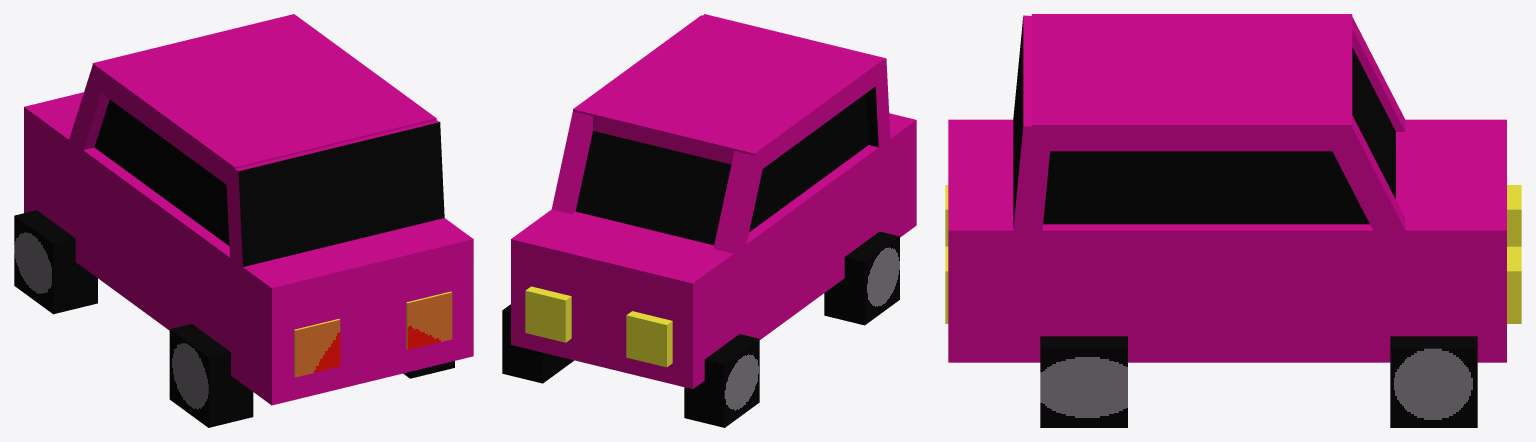
File: carrolaranja.fbx
3 views of the same model, side by side, from view 1: azimuth 30°, elevation 25°; view 2: azimuth 150°, elevation 25°; view 3: azimuth 270°, elevation 25° (orthographic). The views are drawn at different scales.
Parts seen in each view (by area): view 1: cube_1, cube_9_1, cube_10_1, cube_11_1, cube_2_1, cube_1_2, cube_6_3, cube_5_3, cube_8_1, cube_13_1; view 2: cube_1, cube_9_1, cube_15_1, cube_11_1, cube_1_2, cube_2_1, cube_8_1, cube_7_1, cube_5_1, cube_6_1, cube_10_1, cube_4_1; view 3: cube_1, cube_9_1, cube_12_1, cube_3_1, cube_4_1, cube_14_1, cube_10_1, cube_7_1, cube_15_1, cube_8_1, cube_6_1, cube_5_1.
Part boxes in pixels (box(x1,y1,x2,y2)): cube_1: box(24, 92, 473, 405); cube_9_1: box(92, 14, 436, 189); cube_10_1: box(225, 120, 444, 291); cube_11_1: box(100, 99, 228, 242); cube_2_1: box(169, 324, 253, 427); cube_1_2: box(14, 210, 97, 314); cube_6_3: box(406, 291, 452, 349); cube_5_3: box(294, 319, 340, 377); cube_8_1: box(65, 65, 109, 168); cube_13_1: box(94, 131, 229, 245); cube_1: box(511, 113, 916, 389); cube_9_1: box(573, 15, 882, 168); cube_15_1: box(575, 131, 731, 245); cube_11_1: box(749, 93, 868, 232); cube_1_2: box(684, 334, 759, 427); cube_2_1: box(824, 231, 899, 325); cube_8_1: box(713, 151, 765, 269); cube_7_1: box(552, 111, 592, 214); cube_5_1: box(626, 311, 672, 367); cube_6_1: box(525, 286, 571, 342); cube_10_1: box(703, 14, 891, 169); cube_4_1: box(502, 304, 573, 383); cube_1: box(948, 119, 1506, 362); cube_9_1: box(1031, 14, 1352, 151); cube_12_1: box(1043, 151, 1360, 224); cube_3_1: box(1040, 336, 1127, 427); cube_4_1: box(1390, 336, 1477, 427); cube_14_1: box(1069, 198, 1369, 224); cube_10_1: box(1010, 15, 1049, 259); cube_7_1: box(1326, 115, 1413, 257); cube_15_1: box(1352, 47, 1395, 199); cube_8_1: box(1352, 17, 1405, 131); cube_6_1: box(1507, 246, 1521, 323); cube_5_1: box(1507, 185, 1521, 246).
Bounding box in the file's own units: 2707 × 2707 × 4861.
5 materials, 5 textured.
